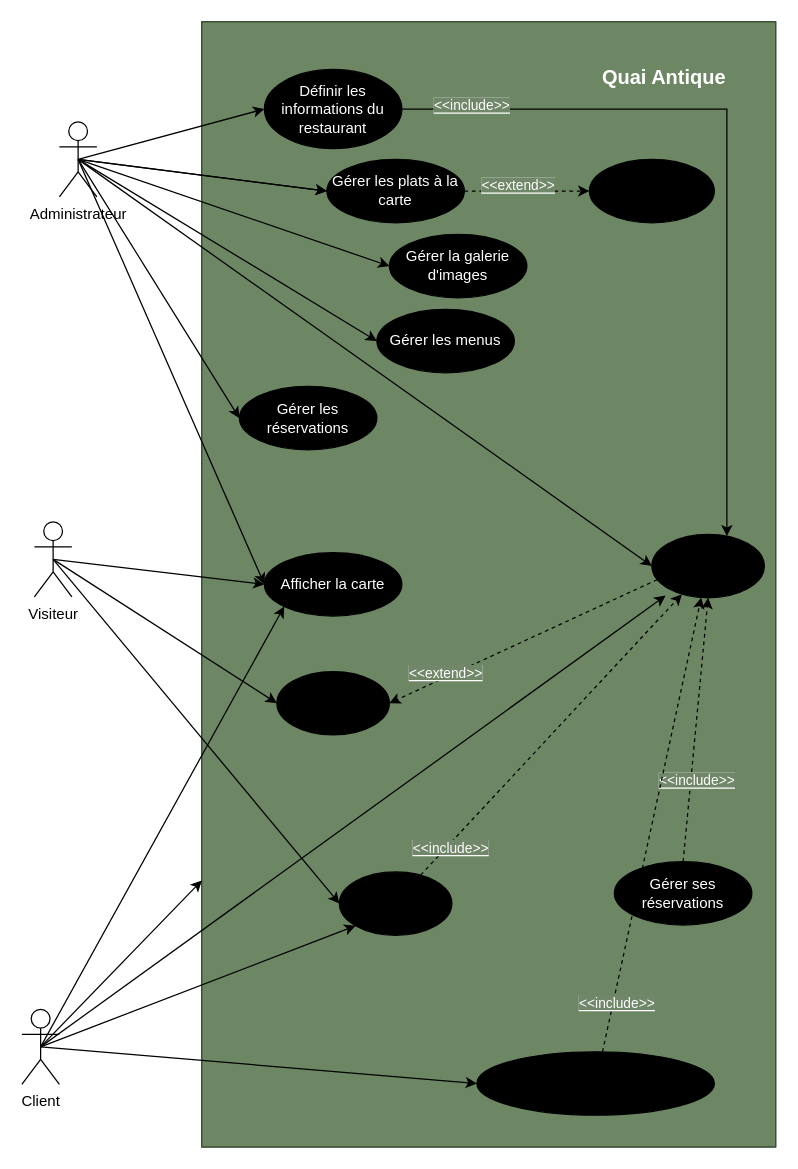
Image size: 798x1169. Some labels were removed from this diagram. The shapes that lost their labels are listed below. From the top down, each one's centre as x and y in pixels, then its label:
At [651,190]: "Créer des catégories".
At [707,565]: "Connexion".
At [332,702]: "Inscription".
At [395,903]: "Réserver une table".
At [595,1082]: "Modifier ses données personnelles".
